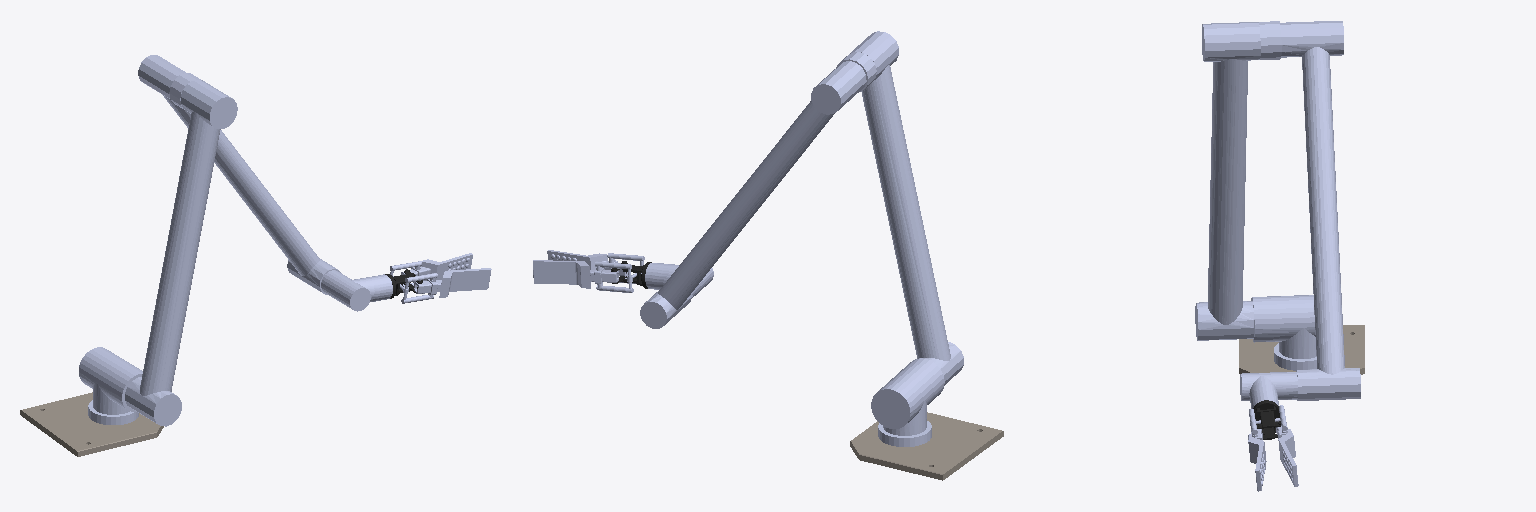
The robot description file, URDF, robot "new_full_arm":
<?xml version="1.0"?>
<!-- This URDF was automatically created by SolidWorks to URDF Exporter! Originally created by [author] ([email redacted]) 
     Commit Version: 1.6.0-4-g7f85cfe  Build Version: 1.6.7995.38578
     For more information, please see http://wiki.ros.org/sw_urdf_exporter -->
<robot
  name="new_full_arm">
  <link
    name="base_link">
    <inertial>
      <origin
        xyz="-0.0016328 3.4694E-18 0.0047309"
        rpy="0 0 0" />
      <mass
        value="2.5434" />
      <inertia
        ixx="0.0062816"
        ixy="7.5177E-19"
        ixz="1.9873E-05"
        iyy="0.0063726"
        iyz="5.9154E-18"
        izz="0.012605" />
    </inertial>
    <visual>
      <origin
        xyz="0 0 0"
        rpy="0 0 0" />
      <geometry>
        <mesh
          filename="package://new_full_arm/models/base_link.STL" />
      </geometry>
      <material
        name="1">
        <color
          rgba="0.65098 0.61961 0.58824 1" />
      </material>
    </visual>
    <collision>
      <origin
        xyz="0 0 0"
        rpy="0 0 0" />
      <geometry>
        <mesh
          filename="package://new_full_arm/models/base_link.STL" />
      </geometry>
    </collision>
  </link>
  <link
    name="link1">
    <inertial>
      <origin
        xyz="9.7283E-08 0.051917 0.0072668"
        rpy="0 0 0" />
      <mass
        value="0.54797" />
      <inertia
        ixx="0.00091144"
        ixy="1.3732E-11"
        ixz="4.8894E-11"
        iyy="0.00069669"
        iyz="-5.2095E-05"
        izz="0.00053432" />
    </inertial>
    <visual>
      <origin
        xyz="0 0 0"
        rpy="0 0 0" />
      <geometry>
        <mesh
          filename="package://new_full_arm/models/link1.STL" />
      </geometry>
      <material
        name="2">
        <color
          rgba="0.79216 0.81961 0.93333 1" />
      </material>
    </visual>
    <collision>
      <origin
        xyz="0 0 0"
        rpy="0 0 0" />
      <geometry>
        <mesh
          filename="package://new_full_arm/models/link1.STL" />
      </geometry>
    </collision>
  </link>
  <joint
    name="j1"
    type="revolute">
    <origin
      xyz="0.027574 0 0.01"
      rpy="1.5708 0 0.085128" />
    <parent
      link="base_link" />
    <child
      link="link1" />
    <axis
      xyz="0 1 0" />
    <limit
      lower="-3.14159"
      upper="3.14159"
      effort="100"
      velocity="3" />
  </joint>
  <link
    name="link2">
    <inertial>
      <origin
        xyz="-0.054596 0.25 -1.3382E-07"
        rpy="0 0 0" />
      <mass
        value="1.2667" />
      <inertia
        ixx="0.039117"
        ixy="-1.5902E-09"
        ixz="-1.7286E-09"
        iyy="0.0005531"
        iyz="-1.1583E-08"
        izz="0.039245" />
    </inertial>
    <visual>
      <origin
        xyz="0 0 0"
        rpy="0 0 0" />
      <geometry>
        <mesh
          filename="package://new_full_arm/models/link2.STL" />
      </geometry>
      <material
        name="3">
        <color
          rgba="0.79216 0.81961 0.93333 1" />
      </material>
    </visual>
    <collision>
      <origin
        xyz="0 0 0"
        rpy="0 0 0" />
      <geometry>
        <mesh
          filename="package://new_full_arm/models/link2.STL" />
      </geometry>
    </collision>
  </link>
  <joint
    name="j2"
    type="revolute">
    <origin
      xyz="0 0.065 0.055404"
      rpy="0.21527 1.5708 0" />
    <parent
      link="link1" />
    <child
      link="link2" />
    <axis
      xyz="-1 0 0" />
    <limit
      lower="-1.57"
      upper="1.57"
      effort="100"
      velocity="3" />
  </joint>
  <link
    name="link3">
    <inertial>
      <origin
        xyz="-0.058951 0.2237 8.2827E-08"
        rpy="0 0 0" />
      <mass
        value="0.96572" />
      <inertia
        ixx="0.03397"
        ixy="0.0010363"
        ixz="1.4479E-09"
        iyy="0.0006647"
        iyz="-4.3386E-08"
        izz="0.0344" />
    </inertial>
    <visual>
      <origin
        xyz="0 0 0"
        rpy="0 0 0" />
      <geometry>
        <mesh
          filename="package://new_full_arm/models/link3.STL" />
      </geometry>
      <material
        name="4">
        <color
          rgba="0.79216 0.81961 0.93333 1" />
      </material>
    </visual>
    <collision>
      <origin
        xyz="0 0 0"
        rpy="0 0 0" />
      <geometry>
        <mesh
          filename="package://new_full_arm/models/link3.STL" />
      </geometry>
    </collision>
  </link>
  <joint
    name="j3"
    type="revolute">
    <origin
      xyz="0 0.5 0"
      rpy="0.81951 0 3.1416" />
    <parent
      link="link2" />
    <child
      link="link3" />
    <axis
      xyz="1 0 0" />
    <limit
      lower="-0.7"
      upper="2"
      effort="100"
      velocity="3" />
  </joint>
  <link
    name="link4">
    <inertial>
      <origin
        xyz="-1.298E-07 0.01729 0.028582"
        rpy="0 0 0" />
      <mass
        value="0.16716" />
      <inertia
        ixx="0.00016562"
        ixy="2.1366E-11"
        ixz="8.9114E-12"
        iyy="8.1288E-05"
        iyz="-1.7382E-05"
        izz="0.00011862" />
    </inertial>
    <visual>
      <origin
        xyz="0 0 0"
        rpy="0 0 0" />
      <geometry>
        <mesh
          filename="package://new_full_arm/models/link4.STL" />
      </geometry>
      <material
        name="5">
        <color
          rgba="0.79216 0.81961 0.93333 1" />
      </material>
    </visual>
    <collision>
      <origin
        xyz="0 0 0"
        rpy="0 0 0" />
      <geometry>
        <mesh
          filename="package://new_full_arm/models/link4.STL" />
      </geometry>
    </collision>
  </link>
  <joint
    name="j4"
    type="revolute">
    <origin
      xyz="0 0.5 0"
      rpy="1.5708 0.71566 1.5708" />
    <parent
      link="link3" />
    <child
      link="link4" />
    <axis
      xyz="0 0 -1" />
    <limit
      lower="-3.1416"
      upper="3.1416"
      effort="0"
      velocity="0" />
  </joint>
  <link
    name="link5">
    <inertial>
      <origin
        xyz="-4.0132E-05 0.00035719 0.016531"
        rpy="0 0 0" />
      <mass
        value="0.012392" />
      <inertia
        ixx="1.7185E-06"
        ixy="1.2764E-10"
        ixz="6.7594E-10"
        iyy="1.7459E-06"
        iyz="-2.2016E-08"
        izz="2.2863E-06" />
    </inertial>
    <visual>
      <origin
        xyz="0 0 0"
        rpy="0 0 0" />
      <geometry>
        <mesh
          filename="package://new_full_arm/models/link5.STL" />
      </geometry>
      <material
        name="6">
        <color
          rgba="0.2 0.2 0.2 1" />
      </material>
    </visual>
    <collision>
      <origin
        xyz="0 0 0"
        rpy="0 0 0" />
      <geometry>
        <mesh
          filename="package://new_full_arm/models/link5.STL" />
      </geometry>
    </collision>
  </link>
  <joint
    name="j5"
    type="revolute">
    <origin
      xyz="0 0.071064 0.034596"
      rpy="1.5708 1.4722 3.1416" />
    <parent
      link="link4" />
    <child
      link="link5" />
    <axis
      xyz="0 0 1" />
    <limit
      lower="-3.14159"
      upper="3.14159"
      effort="100"
      velocity="3" />
  </joint>
  <link
    name="left_link1">
    <inertial>
      <origin
        xyz="0.010447 -0.00020644 0.070298"
        rpy="0 0 0" />
      <mass
        value="0.032818" />
      <inertia
        ixx="4.0101E-05"
        ixy="-9.568E-09"
        ixz="4.9651E-06"
        iyy="3.8682E-05"
        iyz="6.8529E-08"
        izz="4.3645E-06" />
    </inertial>
    <visual>
      <origin
        xyz="0 0 0"
        rpy="0 0 0" />
      <geometry>
        <mesh
          filename="package://new_full_arm/models/left_link1.STL" />
      </geometry>
      <material
        name="7">
        <color
          rgba="0.79216 0.81961 0.93333 1" />
      </material>
    </visual>
    <collision>
      <origin
        xyz="0 0 0"
        rpy="0 0 0" />
      <geometry>
        <mesh
          filename="package://new_full_arm/models/left_link1.STL" />
      </geometry>
    </collision>
  </link>
  <joint
    name="left_j1"
    type="revolute">
    <origin
      xyz="0 0 0.049261"
      rpy="0 0.1527 0" />
    <parent
      link="link5" />
    <child
      link="left_link1" />
    <axis
      xyz="0 1 0" />
    <limit
      lower="-0.154"
      upper="0.3"
      effort="100"
      velocity="3" />
    <mimic
      joint="middle_j1"
      multiplier="1"
      offset="0" />
  </joint>
  <link
    name="left_link2">
    <inertial>
      <origin
        xyz="0.020351 -6.6613E-16 0.009108"
        rpy="0 0 0" />
      <mass
        value="0.001747" />
      <inertia
        ixx="1.1011E-07"
        ixy="1.2408E-23"
        ixz="2.9779E-23"
        iyy="1.0301E-07"
        iyz="1.9914E-22"
        izz="1.8414E-07" />
    </inertial>
    <visual>
      <origin
        xyz="0 0 0"
        rpy="0 0 0" />
      <geometry>
        <mesh
          filename="package://new_full_arm/models/left_link2.STL" />
      </geometry>
      <material
        name="8">
        <color
          rgba="0.79216 0.81961 0.93333 1" />
      </material>
    </visual>
    <collision>
      <origin
        xyz="0 0 0"
        rpy="0 0 0" />
      <geometry>
        <mesh
          filename="package://new_full_arm/models/left_link2.STL" />
      </geometry>
    </collision>
  </link>
  <joint
    name="left_j2"
    type="prismatic">
    <origin
      xyz="-0.0028156 0 0.018295"
      rpy="0 0 0" />
    <parent
      link="left_link1" />
    <child
      link="left_link2" />
    <axis
      xyz="0 0 1" />
    <limit
      lower="-0.012"
      upper="0.006"
      effort="100"
      velocity="3" />
  </joint>
  <link
    name="left_link3">
    <inertial>
      <origin
        xyz="-0.027506 5.0083E-08 -0.0215"
        rpy="0 0 0" />
      <mass
        value="0.007033" />
      <inertia
        ixx="1.3726E-07"
        ixy="-2.8546E-13"
        ixz="6.3831E-13"
        iyy="2.4108E-06"
        iyz="-1.5872E-12"
        izz="2.4939E-06" />
    </inertial>
    <visual>
      <origin
        xyz="0 0 0"
        rpy="0 0 0" />
      <geometry>
        <mesh
          filename="package://new_full_arm/models/left_link3.STL" />
      </geometry>
      <material
        name="9">
        <color
          rgba="0.79216 0.81961 0.93333 1" />
      </material>
    </visual>
    <collision>
      <origin
        xyz="0 0 0"
        rpy="0 0 0" />
      <geometry>
        <mesh
          filename="package://new_full_arm/models/left_link3.STL" />
      </geometry>
    </collision>
  </link>
  <joint
    name="left_j3"
    type="revolute">
    <origin
      xyz="-0.0014736 0 0.0095755"
      rpy="-3.1416 -1.4181 3.1416" />
    <parent
      link="left_link2" />
    <child
      link="left_link3" />
    <axis
      xyz="0 1 0" />
    <limit
      lower="-0.04"
      upper="0.04"
      effort="100"
      velocity="3" />
    <mimic
      joint="left_j2"
      multiplier="0.75"
      offset="0" />
  </joint>
  <link
    name="right_link1">
    <inertial>
      <origin
        xyz="0.010377 0.00066856 0.070755"
        rpy="0 0 0" />
      <mass
        value="0.032818" />
      <inertia
        ixx="4.0101E-05"
        ixy="-9.5678E-09"
        ixz="4.9651E-06"
        iyy="3.8682E-05"
        iyz="6.8528E-08"
        izz="4.3645E-06" />
    </inertial>
    <visual>
      <origin
        xyz="0 0 0"
        rpy="0 0 0" />
      <geometry>
        <mesh
          filename="package://new_full_arm/models/right_link1.STL" />
      </geometry>
      <material
        name="10">
        <color
          rgba="0.79216 0.81961 0.93333 1" />
      </material>
    </visual>
    <collision>
      <origin
        xyz="0 0 0"
        rpy="0 0 0" />
      <geometry>
        <mesh
          filename="package://new_full_arm/models/right_link1.STL" />
      </geometry>
    </collision>
  </link>
  <joint
    name="right_j1"
    type="revolute">
    <origin
      xyz="0 0 0.048799"
      rpy="0 0.1527 3.1416" />
    <parent
      link="link5" />
    <child
      link="right_link1" />
    <axis
      xyz="0 -1 0" />
    <limit
      lower="-0.154"
      upper="0.3"
      effort="100"
      velocity="3" />
    <mimic
      joint="left_j1"
      multiplier="-1"
      offset="0" />
  </joint>
  <link
    name="right_link2">
    <inertial>
      <origin
        xyz="-0.020543 -0.000875 0.0078609"
        rpy="0 0 0" />
      <mass
        value="0.001747" />
      <inertia
        ixx="1.1011E-07"
        ixy="3.7554E-22"
        ixz="2.9696E-22"
        iyy="1.0301E-07"
        iyz="2.5146E-22"
        izz="1.8414E-07" />
    </inertial>
    <visual>
      <origin
        xyz="0 0 0"
        rpy="0 0 0" />
      <geometry>
        <mesh
          filename="package://new_full_arm/models/right_link2.STL" />
      </geometry>
      <material
        name="11">
        <color
          rgba="0.79216 0.81961 0.93333 1" />
      </material>
    </visual>
    <collision>
      <origin
        xyz="0 0 0"
        rpy="0 0 0" />
      <geometry>
        <mesh
          filename="package://new_full_arm/models/right_link2.STL" />
      </geometry>
    </collision>
  </link>
  <joint
    name="right_j2"
    type="prismatic">
    <origin
      xyz="-0.0030777 0 0.019999"
      rpy="0 0 3.1416" />
    <parent
      link="right_link1" />
    <child
      link="right_link2" />
    <axis
      xyz="0 0 1" />
    <limit
      lower="-0.012"
      upper="0.006"
      effort="100"
      velocity="3" />
    <mimic
      joint="left_j2"
      multiplier="1"
      offset="0" />
  </joint>
  <link
    name="right_link3">
    <inertial>
      <origin
        xyz="-0.027506 5.0083E-08 0.0215"
        rpy="0 0 0" />
      <mass
        value="0.007033" />
      <inertia
        ixx="1.3726E-07"
        ixy="-2.8546E-13"
        ixz="6.3831E-13"
        iyy="2.4108E-06"
        iyz="-1.5872E-12"
        izz="2.4939E-06" />
    </inertial>
    <visual>
      <origin
        xyz="0 0 0"
        rpy="0 0 0" />
      <geometry>
        <mesh
          filename="package://new_full_arm/models/right_link3.STL" />
      </geometry>
      <material
        name="12">
        <color
          rgba="0.79216 0.81961 0.93333 1" />
      </material>
    </visual>
    <collision>
      <origin
        xyz="0 0 0"
        rpy="0 0 0" />
      <geometry>
        <mesh
          filename="package://new_full_arm/models/right_link3.STL" />
      </geometry>
    </collision>
  </link>
  <joint
    name="right_j3"
    type="revolute">
    <origin
      xyz="0.0012817 0 0.0083284"
      rpy="0 -1.4181 0" />
    <parent
      link="right_link2" />
    <child
      link="right_link3" />
    <axis
      xyz="0 1 0" />
    <limit
      lower="-0.04"
      upper="0.04"
      effort="100"
      velocity="3" />
    <mimic
      joint="left_j3"
      multiplier="-1"
      offset="0" />
  </joint>
  <link
    name="middle_link1">
    <inertial>
      <origin
        xyz="-4.5837E-08 -7.7768E-08 -0.016146"
        rpy="0 0 0" />
      <mass
        value="0.0020792" />
      <inertia
        ixx="3.117E-07"
        ixy="8.2278E-13"
        ixz="1.9501E-12"
        iyy="6.7708E-07"
        iyz="3.2517E-12"
        izz="3.7868E-07" />
    </inertial>
    <visual>
      <origin
        xyz="0 0 0"
        rpy="0 0 0" />
      <geometry>
        <mesh
          filename="package://new_full_arm/models/middle_link1.STL" />
      </geometry>
      <material
        name="13">
        <color rgba="0.79216 0.81961 0.93333 1" />
      </material>
    </visual>
    <collision>
      <origin
        xyz="0 0 0"
        rpy="0 0 0" />
      <geometry>
        <mesh
          filename="package://new_full_arm/models/middle_link1.STL" />
      </geometry>
    </collision>
  </link>
  <joint
    name="middle_j1"
    type="prismatic">
    <origin
      xyz="0 0 0"
      rpy="-3.1416 0 -3.1416" />
    <parent
      link="link5" />
    <child
      link="middle_link1" />
    <axis
      xyz="0 0 -1" />
    <limit
      lower="-0.02"
      upper="0.02"
      effort="100"
      velocity="3" />
    <mimic
      joint="right_j2"
      multiplier="1"
      offset="0" />
  </joint>
</robot>

--- Render facts (derived) ---
Views: 3 orthographic renders of the robot side by side, from view 1: azimuth 30°, elevation 25°; view 2: azimuth 150°, elevation 25°; view 3: azimuth 270°, elevation 25°.
Model new_full_arm with 13 links and 12 joints (9 revolute, 3 prismatic), rooted at base_link, posed all joints at 0.
Links seen in each view (by area): view 1: link2, link3, base_link, link1, link4, right_link1, left_link1; view 2: link2, link3, base_link, link1, left_link1, link4, right_link1; view 3: link3, link2, link1, base_link, link4, link5, left_link1, right_link1.
Link boxes in pixels (<box>): link2: <box>125,80,237,426</box>; link3: <box>138,55,340,294</box>; base_link: <box>20,392,163,456</box>; link1: <box>79,347,142,424</box>; link4: <box>321,270,392,311</box>; right_link1: <box>414,268,491,297</box>; left_link1: <box>401,253,472,283</box>; link2: <box>851,31,963,385</box>; link3: <box>640,52,876,328</box>; base_link: <box>850,412,1003,480</box>; link1: <box>871,358,944,446</box>; left_link1: <box>533,260,618,288</box>; link4: <box>645,263,713,297</box>; right_link1: <box>547,250,627,276</box>; link3: <box>1259,21,1360,400</box>; link2: <box>1195,22,1260,340</box>; link1: <box>1251,295,1316,370</box>; base_link: <box>1239,325,1364,374</box>; link4: <box>1240,372,1297,408</box>; link5: <box>1253,400,1280,439</box>; left_link1: <box>1276,426,1298,486</box>; right_link1: <box>1248,429,1266,491</box>.
Bounding box of the posed robot: 0.7684 × 0.2417 × 0.5938 m (x, y, z).
13 mesh visuals loaded from 13 distinct referenced files (13 binary STL).